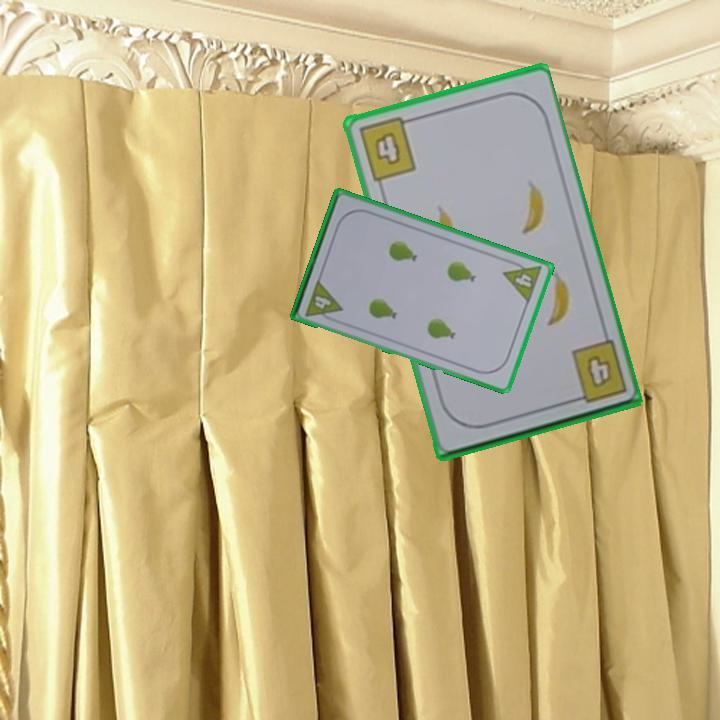4b: (565, 337, 630, 407), (355, 114, 419, 184)
4p: (500, 256, 544, 306), (302, 276, 345, 325)
